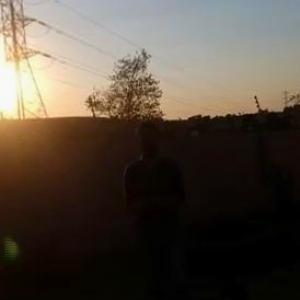follow: (116, 119, 193, 299)
